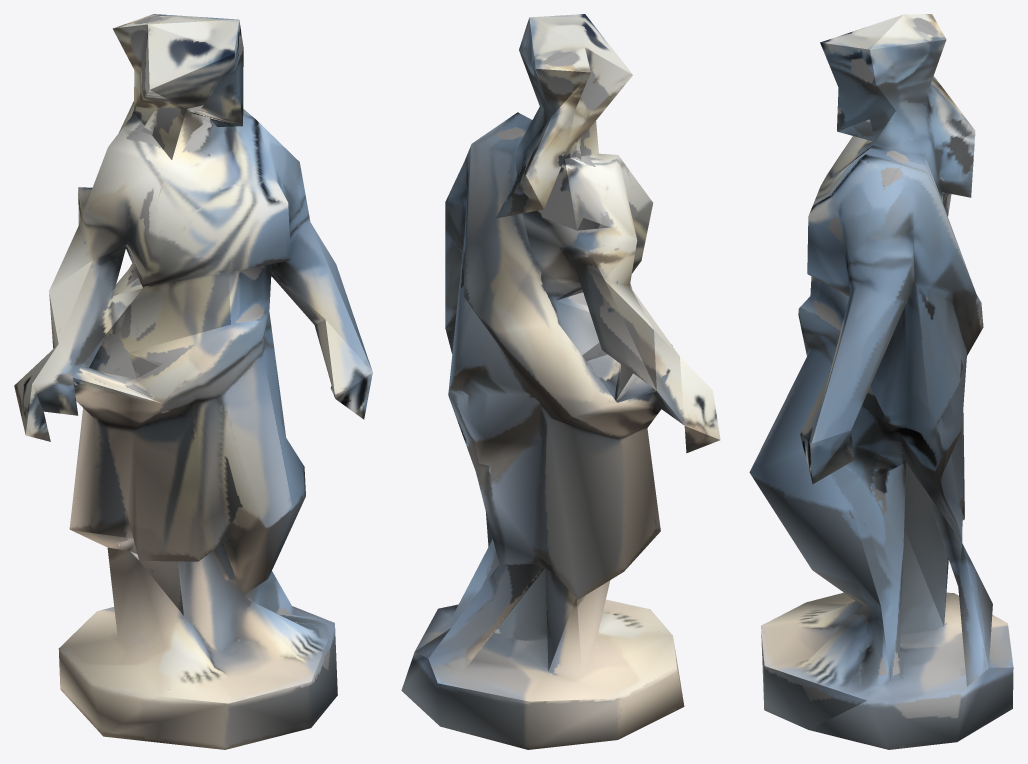
File: marble-goddess.glb
The picture shows the model from 3 angles, left to right: view 1: azimuth 30°, elevation 25°; view 2: azimuth 150°, elevation 25°; view 3: azimuth 270°, elevation 25°; orthographic projection. The views are drawn at different scales.
Visible parts, largest first — view 1: geometry_0.001; view 2: geometry_0.001; view 3: geometry_0.001.
Boxes of the visible parts, x1,y1,x2,y2 form: geometry_0.001: (14,14,372,749); geometry_0.001: (401,14,720,749); geometry_0.001: (749,14,1013,749).
Size of the model in its own units: 0.4724 by 0.9905 by 0.3624.
Materials: 1 (1 with a texture image).
